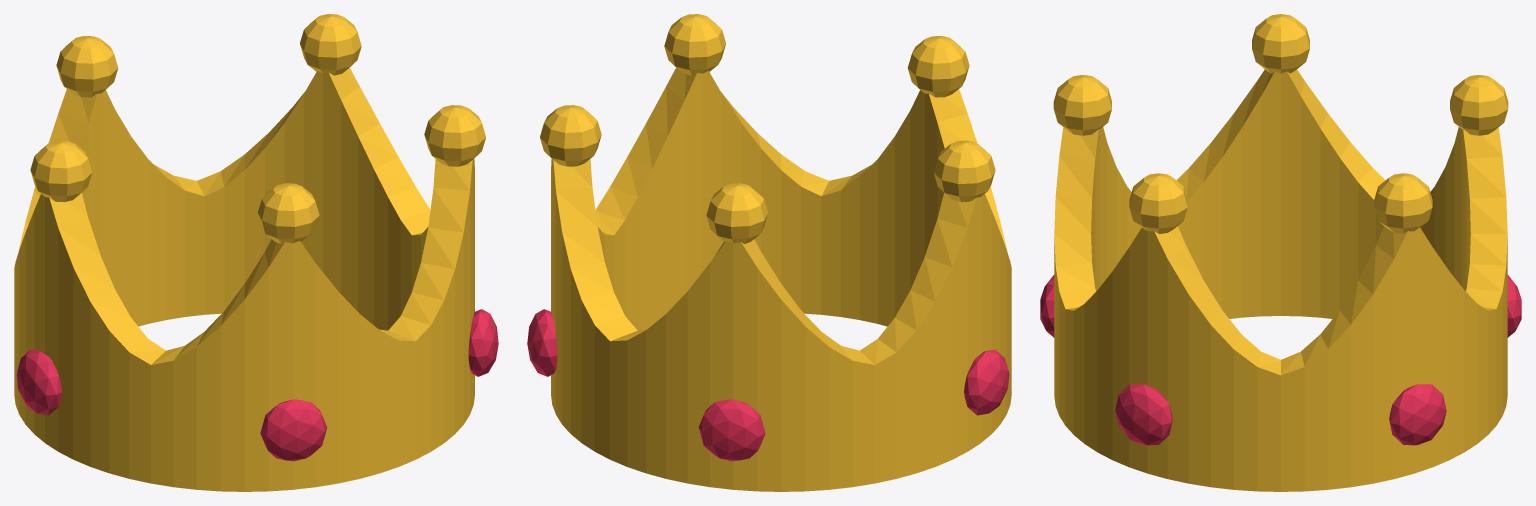
File: SandCrown.obj
3 renders of one model, left to right at view 1: azimuth 30°, elevation 25°; view 2: azimuth 150°, elevation 25°; view 3: azimuth 270°, elevation 25°, orthographic.
Visible parts, largest first — view 1: Gold, Gems; view 2: Gold, Gems; view 3: Gold, Gems.
Boxes of the visible parts, box(x1,y1,x2,y2) form: Gold: box(14, 14, 485, 491); Gems: box(16, 309, 498, 461); Gold: box(540, 14, 1011, 491); Gems: box(527, 309, 1009, 461); Gold: box(1053, 14, 1508, 491); Gems: box(1040, 275, 1521, 445).
Size of the model in its own units: 1.56 by 1.05 by 1.57.
